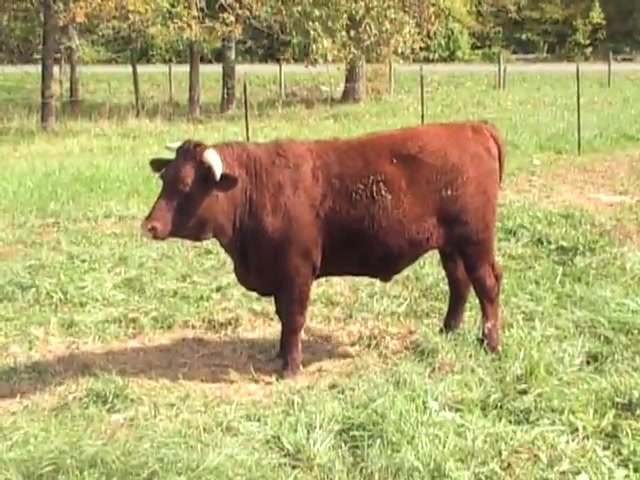cow: (139, 118, 509, 384)
